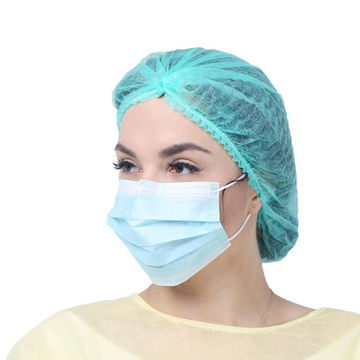with_mask_and_cap: (109, 49, 270, 290)
